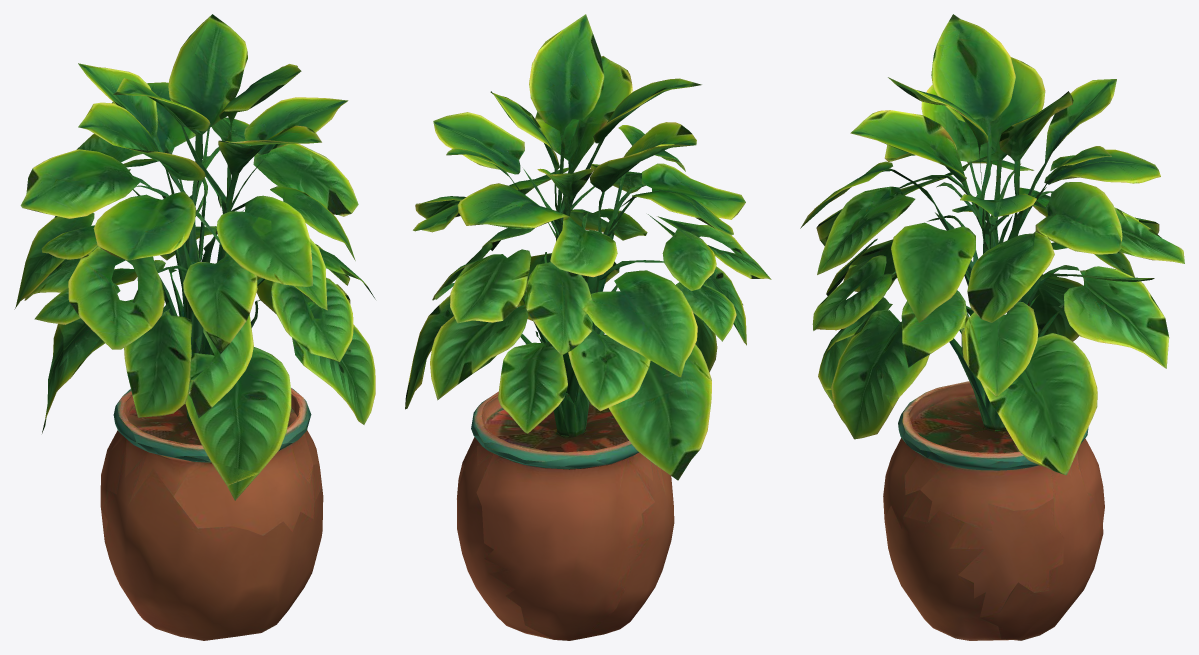
Rendered from potted-plant.glb.
3 views of the same model, side by side, from view 1: azimuth 30°, elevation 25°; view 2: azimuth 150°, elevation 25°; view 3: azimuth 270°, elevation 25° (orthographic). The views are drawn at different scales.
Size of the model in its own units: 0.6027 by 1 by 0.6315.
Materials: 1 (1 with a texture image).
